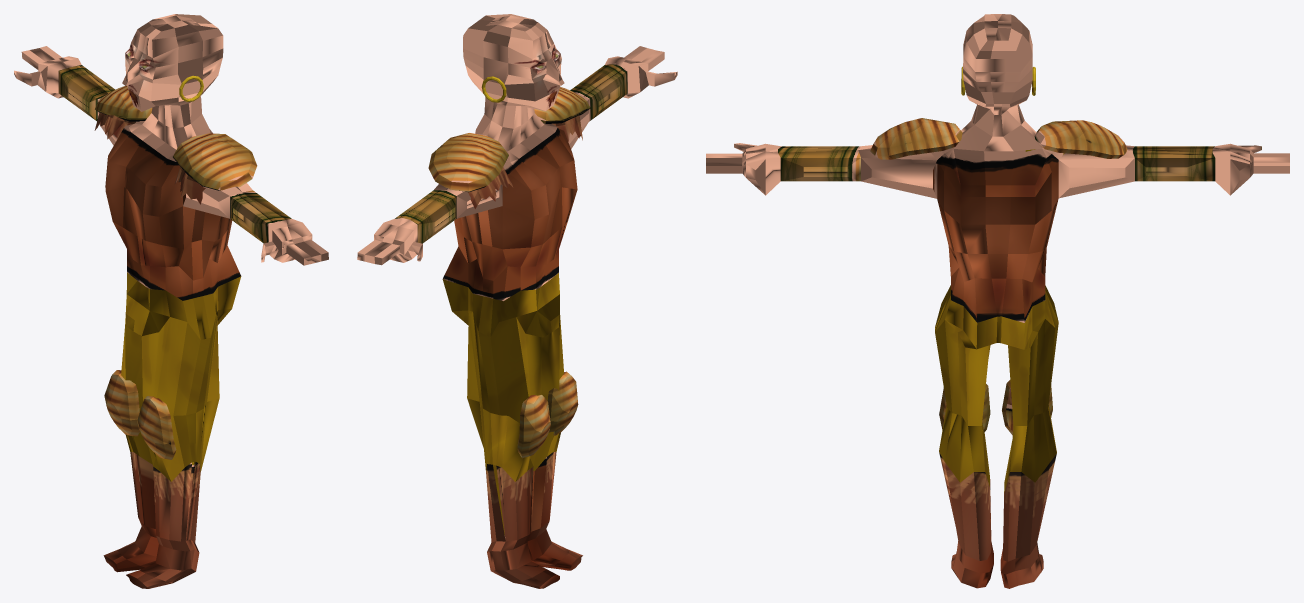
File: enemie_nieuwe_texture_nieuwe(zonder_animatie).fbx
3 views of the same model, side by side, from view 1: azimuth 30°, elevation 25°; view 2: azimuth 150°, elevation 25°; view 3: azimuth 270°, elevation 25° (orthographic). The views are drawn at different scales.
Parts seen in each view (by area): view 1: Cube, Sphere_8, Sphere_4, Sphere_5, Sphere_9, Plane, Plane_1; view 2: Cube, Sphere_9, Sphere_5, Sphere_4, Sphere_8, Plane; view 3: Cube, Sphere_8, Sphere_9.
Boxes of the visible parts, <box> form: Cube: <box>14,14,328,588</box>; Sphere_8: <box>173,133,257,190</box>; Sphere_4: <box>137,396,176,459</box>; Sphere_5: <box>104,370,140,436</box>; Sphere_9: <box>95,85,152,121</box>; Plane: <box>94,112,135,139</box>; Plane_1: <box>175,167,205,204</box>; Cube: <box>357,14,677,588</box>; Sphere_9: <box>428,133,508,192</box>; Sphere_5: <box>517,395,550,458</box>; Sphere_4: <box>547,371,578,435</box>; Sphere_8: <box>534,87,590,123</box>; Plane: <box>468,167,512,208</box>; Cube: <box>706,14,1289,588</box>; Sphere_8: <box>870,118,962,159</box>; Sphere_9: <box>1034,120,1127,158</box>.
Bounding box in the file's own units: 287 × 1350 × 1266.
Materials: 1 (1 with a texture image).
